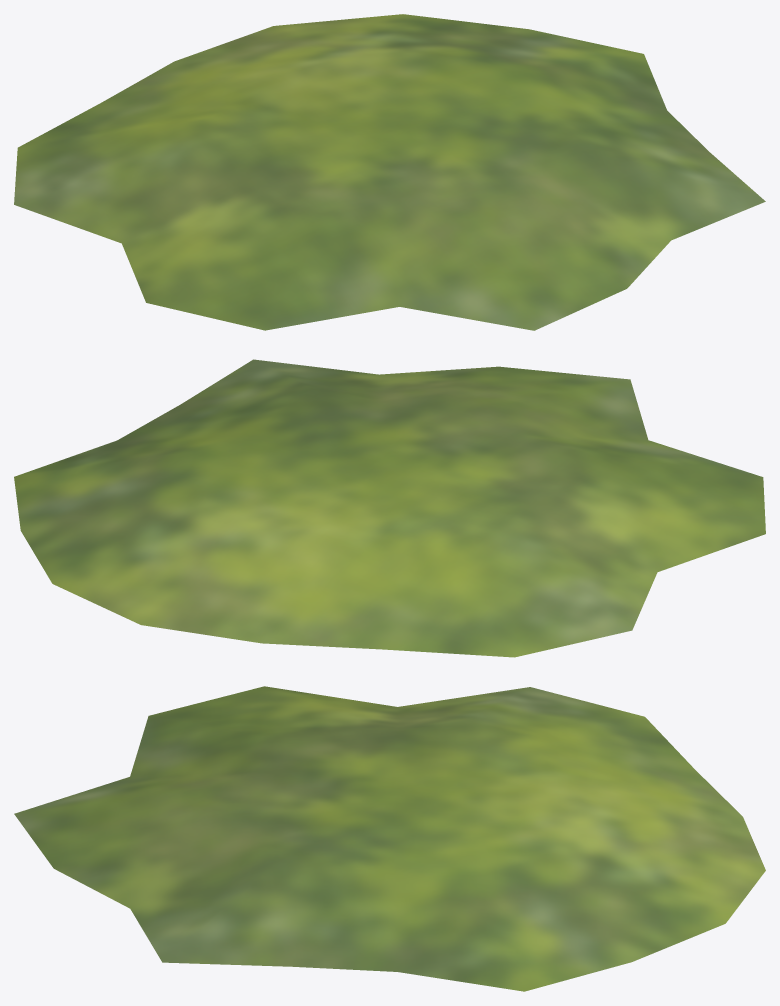
The model's file is Transition_Moss_C.glb.
3 renders of one model, top to bottom at view 1: azimuth 30°, elevation 25°; view 2: azimuth 150°, elevation 25°; view 3: azimuth 270°, elevation 25°, orthographic.
Parts seen in each view (by area): view 1: Transition_Moss_C; view 2: Transition_Moss_C; view 3: Transition_Moss_C.
Part boxes in pixels (<box>): Transition_Moss_C: <box>14,14,765,330</box>; Transition_Moss_C: <box>14,359,765,657</box>; Transition_Moss_C: <box>14,686,765,991</box>.
Size of the model in its own units: 2.52 by 0.162 by 2.62.
1 material, 1 textured.
